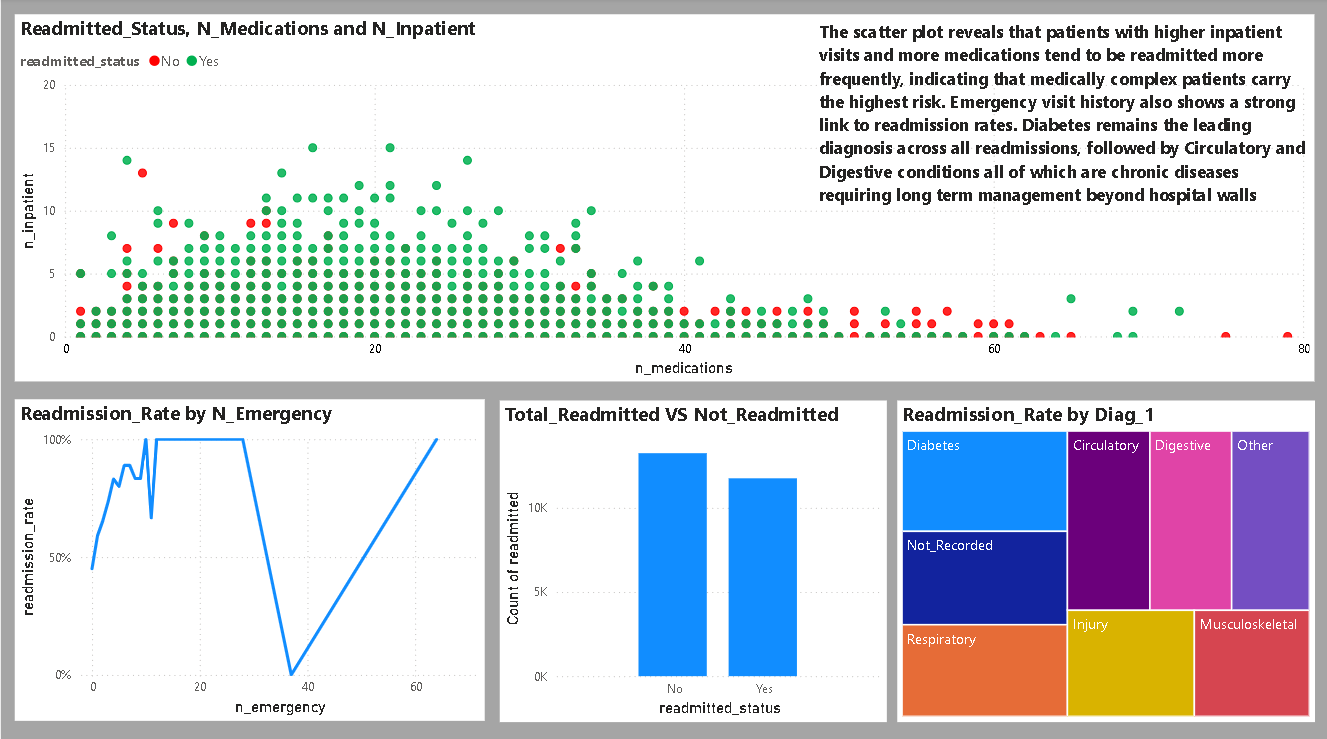

Layout of this report page (visuals, bound fields, positions):
{"tool":"powerbi","page":{"name":"Page 3","canvas":[1280,720],"ordinal":2},"visuals":[{"type":"clusteredColumnChart","title":"Total_Readmitted VS Not_Readmitted","fields":{"Y":["CountNonNull(healthcare_cleaned.readmitted)"],"Category":["healthcare_cleaned.readmitted_status"]},"box":[481.4,388.5,374,310.1],"z":0},{"type":"scatterChart","title":"Readmitted_Status, N_Medications and N_Inpatient","fields":{"X":["healthcare_cleaned.n_medications"],"Y":["healthcare_cleaned.n_inpatient"],"Series":["healthcare_cleaned.readmitted_status"]},"box":[13.3,15.7,1254.7,354.7],"z":1000},{"type":"treemap","title":"Readmission_Rate by Diag_1","fields":{"Group":["healthcare_cleaned.diag_1","healthcare_cleaned.age"],"Values":["healthcare_cleaned.readmission_rate"]},"box":[865,388.5,403,310.1],"z":2000},{"type":"lineChart","title":"Readmission_Rate by N_Emergency","fields":{"Category":["healthcare_cleaned.n_emergency"],"Y":["healthcare_cleaned.readmission_rate"]},"box":[13.3,387.3,453.6,310.1],"z":3000},{"type":"textbox","box":[784.2,15.7,483.8,191.8],"z":4000}]}

Visuals, with their boxes in screenshot pixels (x1, y1, x2, y2), scaled from the page's 1280x720 canvas onto the 1327x739 screenshot:
"Total_Readmitted VS Not_Readmitted" clusteredColumnChart: Rect(499, 399, 887, 717)
"Readmitted_Status, N_Medications and N_Inpatient" scatterChart: Rect(14, 16, 1315, 380)
"Readmission_Rate by Diag_1" treemap: Rect(897, 399, 1315, 717)
"Readmission_Rate by N_Emergency" lineChart: Rect(14, 398, 484, 716)
textbox: Rect(813, 16, 1315, 213)
